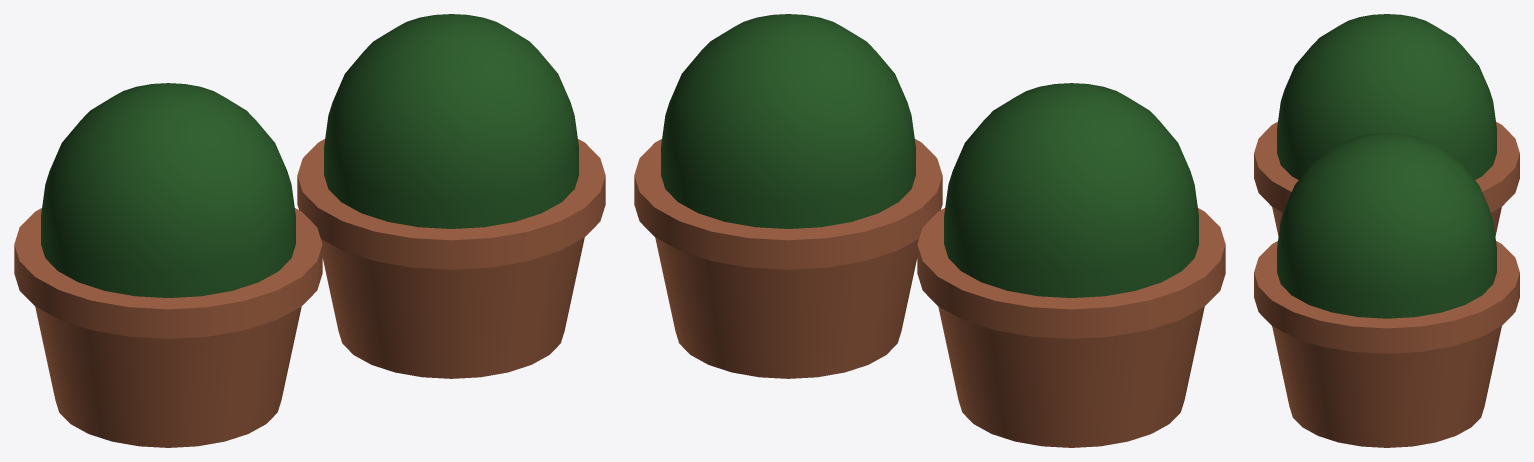
The model's file is object_B3_Plants_004.glb.
The picture shows the model from 3 angles, left to right: view 1: azimuth 30°, elevation 25°; view 2: azimuth 150°, elevation 25°; view 3: azimuth 270°, elevation 25°; orthographic projection. The views are drawn at different scales.
Visible parts, largest first — view 1: B3 Plants.004; view 2: B3 Plants.004; view 3: B3 Plants.004.
Part boxes in pixels (left/top/right/bottom): B3 Plants.004: left=14, top=14, right=605, bottom=447; B3 Plants.004: left=634, top=14, right=1225, bottom=447; B3 Plants.004: left=1254, top=14, right=1519, bottom=447.
Size of the model in its own units: 0.735 by 0.3915 by 0.3567.
